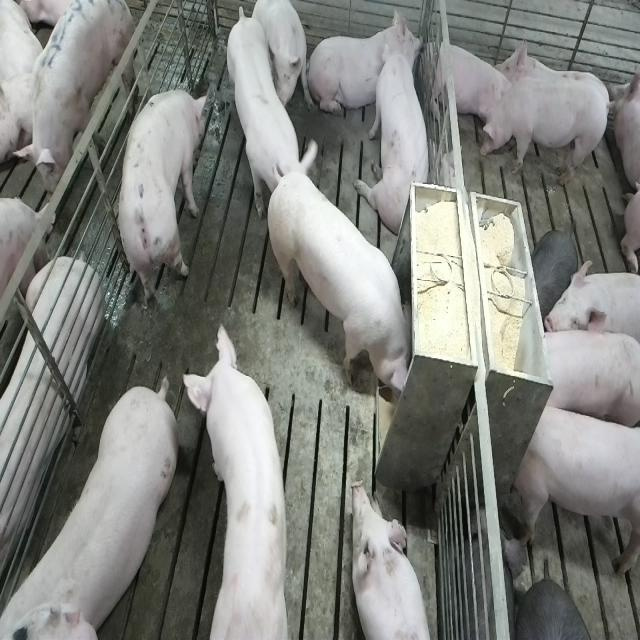Feeding: (271, 153, 421, 404)
Sitting: (363, 14, 433, 239), (252, 1, 308, 116)
Standing: (5, 374, 183, 635), (188, 315, 293, 634), (513, 397, 639, 578), (20, 0, 134, 198), (117, 86, 206, 315), (227, 7, 322, 219), (479, 79, 613, 189), (538, 327, 638, 432), (542, 258, 640, 360)
Sternal_lying: (0, 231, 100, 584), (350, 481, 432, 640), (310, 15, 420, 124), (428, 35, 508, 132)
